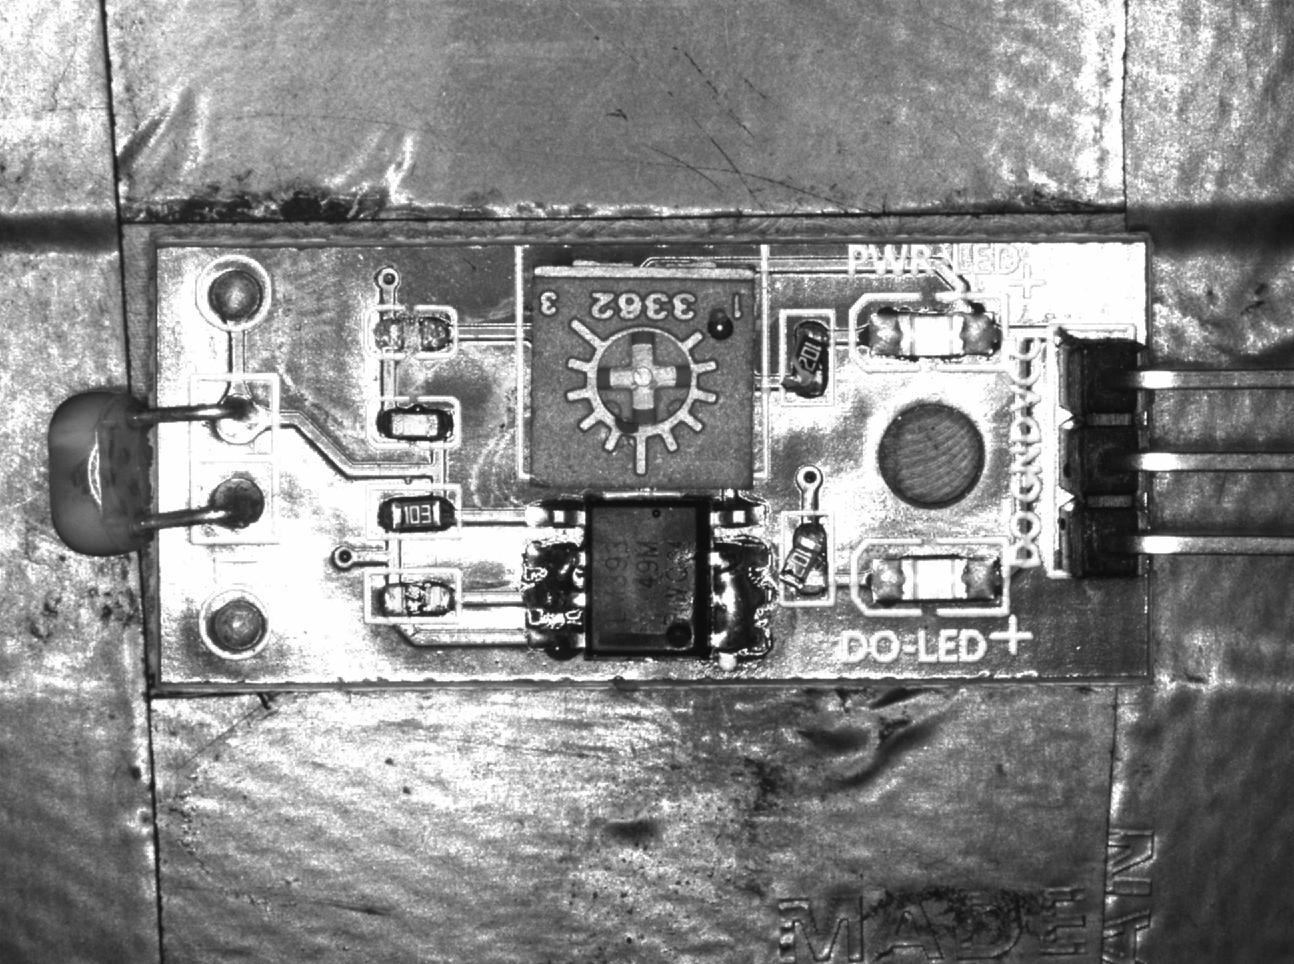bridge: (709, 538, 776, 659), (524, 540, 586, 616)
lifted: (780, 309, 833, 406), (781, 511, 834, 605)
miss: (366, 568, 462, 621), (365, 306, 458, 356)
ok: (363, 485, 459, 538), (366, 399, 458, 445)
